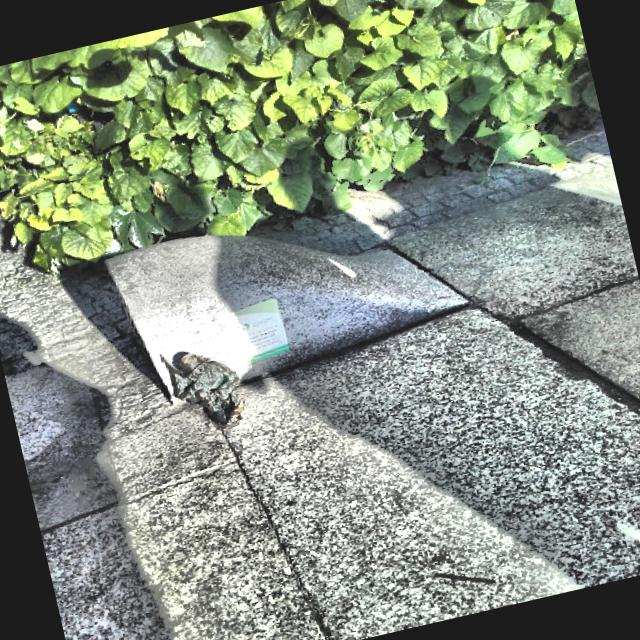Spioch: (162, 353, 244, 421)
